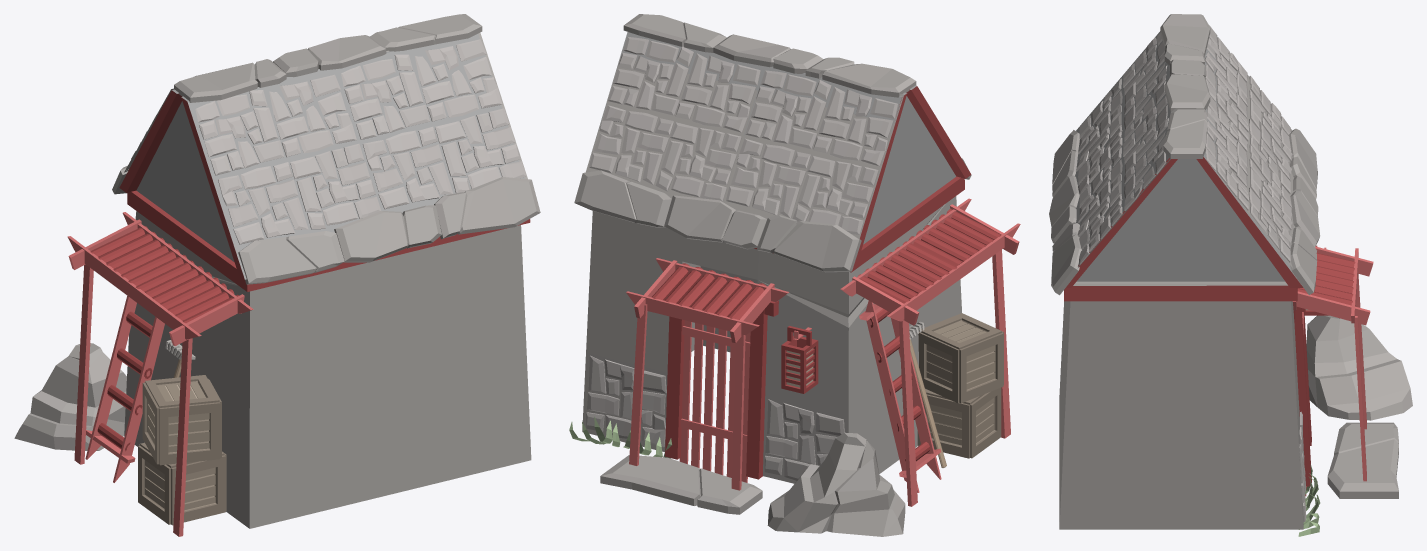
The model's file is ER_Asset_House01.fbx.
3 renders of one model, left to right at view 1: azimuth 30°, elevation 25°; view 2: azimuth 150°, elevation 25°; view 3: azimuth 270°, elevation 25°, orthographic. The views are drawn at different scales.
Visible parts, largest first — view 1: polySurface1271; view 2: polySurface1271; view 3: polySurface1271.
Boxes of the visible parts, left/top/right/bottom form: polySurface1271: left=14, top=14, right=540, bottom=536; polySurface1271: left=569, top=14, right=1020, bottom=536; polySurface1271: left=1049, top=14, right=1412, bottom=536.
Size of the model in its own units: 5.15 by 5.42 by 4.47.
